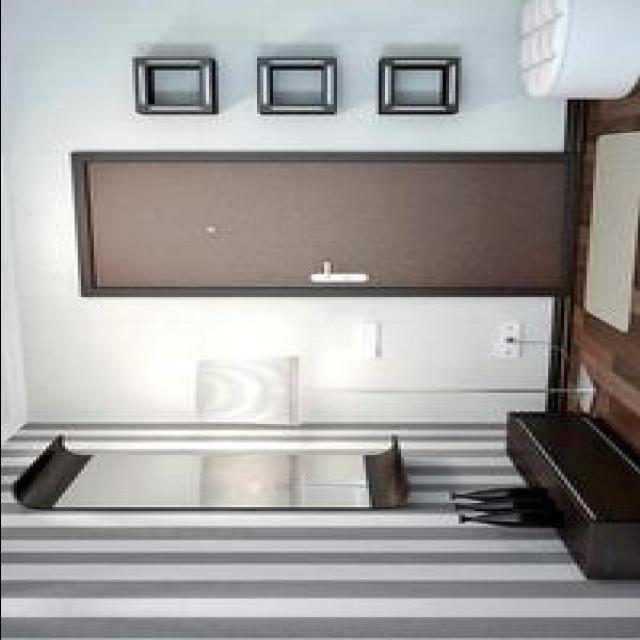close: (77, 152, 566, 296)
